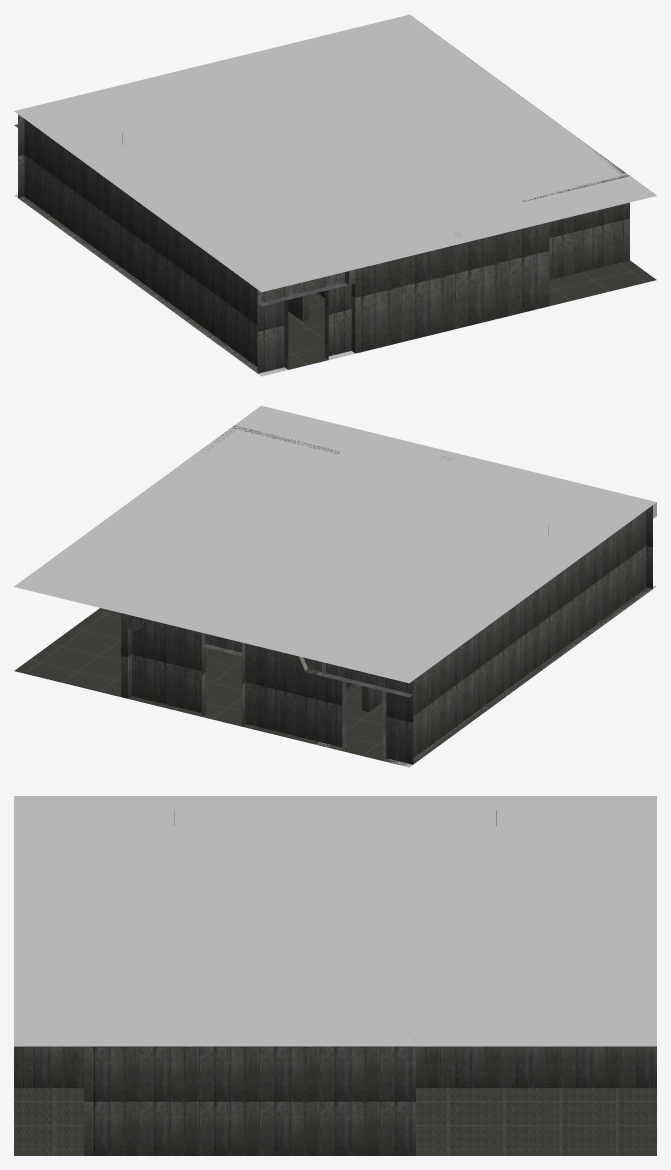
File: HC_room2_servers.obj
3 views of the same model, one above another, from view 1: azimuth 30°, elevation 25°; view 2: azimuth 150°, elevation 25°; view 3: azimuth 270°, elevation 25° (orthographic). The views are drawn at different scales.
Parts seen in each view (by area): view 1: room2servers; view 2: room2servers; view 3: room2servers.
Boxes of the visible parts, <box> form: room2servers: <box>14,14,656,376</box>; room2servers: <box>14,405,656,767</box>; room2servers: <box>14,796,656,1155</box>.
Size of the model in its own units: 18.88 by 4.39 by 20.48.
